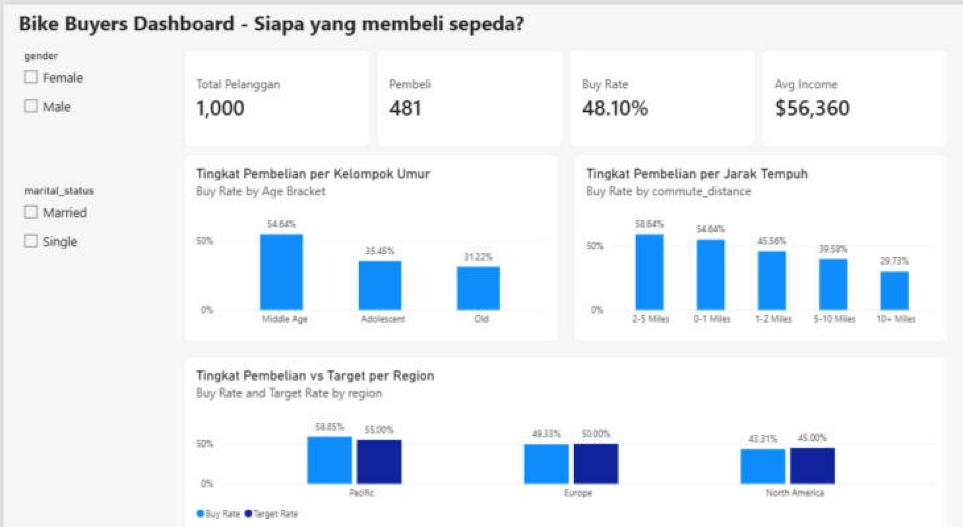

Layout of this report page (visuals, bound fields, positions):
{"tool":"powerbi","page":{"name":"Page 3","canvas":[1920,1080],"ordinal":2},"visuals":[{"type":"cardVisual","fields":{"Data":["bike_customers.Total Pelanggan","bike_customers.Pembeli","bike_customers.Buy Rate","bike_customers.Avg Income"]},"box":[240,60,1020,130],"z":0},{"type":"clusteredColumnChart","title":"Tingkat Pembelian per Kelompok Umur\t","fields":{"Category":["bike_customers.Age Bracket"],"Y":["bike_customers.Buy Rate"]},"box":[240,200,500,250],"z":1},{"type":"clusteredColumnChart","title":"Tingkat Pembelian vs Target per Region\t","fields":{"Category":["bike_regions.region"],"Y":["bike_customers.Buy Rate","bike_customers.Target Rate"]},"box":[240,470,1020,240],"z":2},{"type":"clusteredColumnChart","title":"Tingkat Pembelian per Jarak Tempuh\t","fields":{"Category":["bike_customers.commute_distance"],"Y":["bike_customers.Buy Rate"]},"box":[760,200,500,250],"z":3},{"type":"slicer","fields":{"Values":["bike_customers.gender"]},"box":[20,60,200,160],"z":4},{"type":"slicer","fields":{"Values":["bike_customers.marital_status"]},"box":[20,240,200,160],"z":5},{"type":"textbox","box":[20,5,1240,50],"z":6}]}

Visuals, with their boxes in screenshot pixels (x1, y1, x2, y2), scaled from the page's 1920x1080 canvas onto the 963x527 screenshot:
cardVisual - bike_customers.Total Pelanggan x bike_customers.Pembeli: crop(120, 29, 632, 93)
"Tingkat Pembelian per Kelompok Umur	" clusteredColumnChart: crop(120, 98, 371, 220)
"Tingkat Pembelian vs Target per Region	" clusteredColumnChart: crop(120, 229, 632, 346)
"Tingkat Pembelian per Jarak Tempuh	" clusteredColumnChart: crop(381, 98, 632, 220)
slicer - bike_customers.gender: crop(10, 29, 110, 107)
slicer - bike_customers.marital_status: crop(10, 117, 110, 195)
textbox: crop(10, 2, 632, 27)
